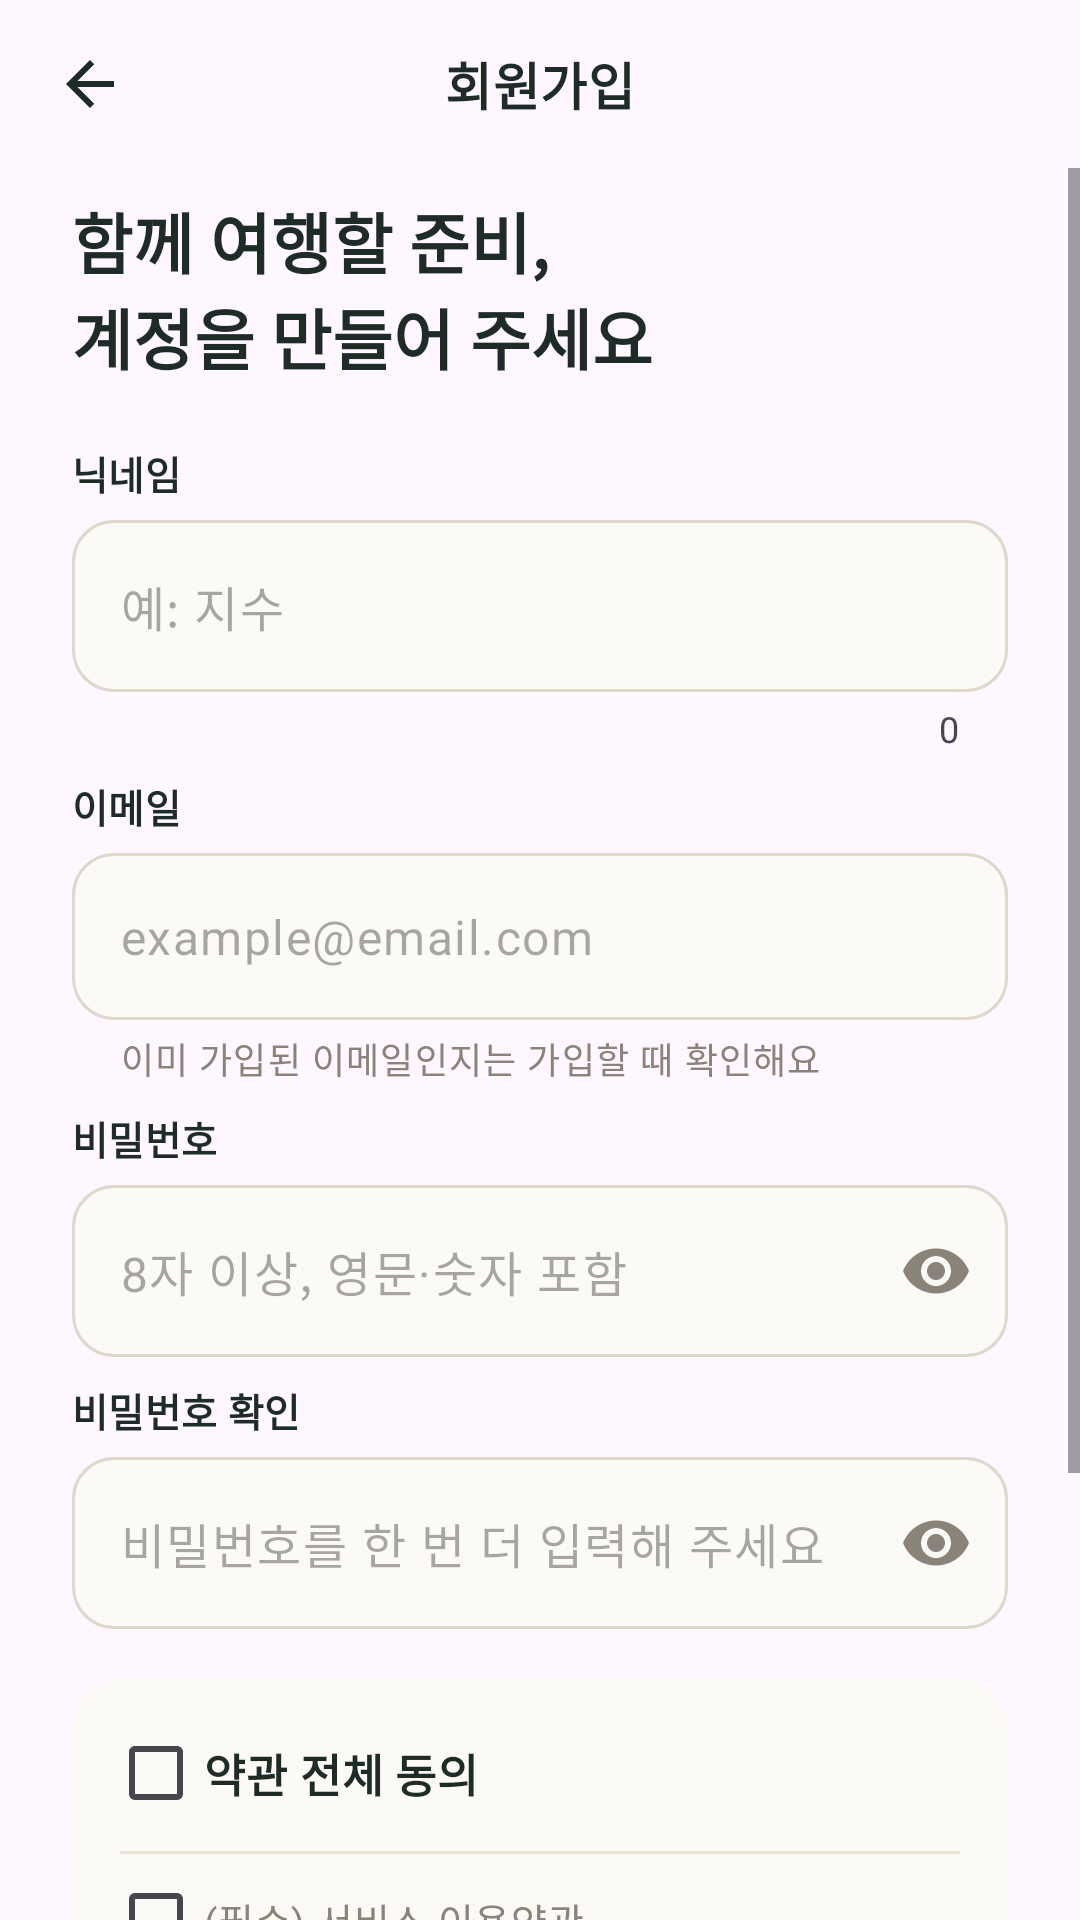

Locate icon controls on the screen. Image size 1080w x 1920h, boxes as (x1, y1, x2, y2).
뒤로 가기: (66, 60, 114, 108)
